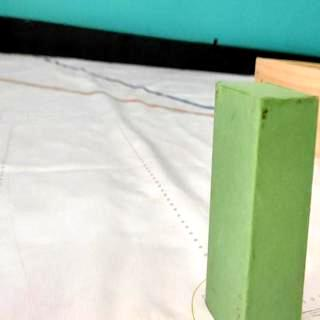greenbox: (203, 79, 320, 320)
